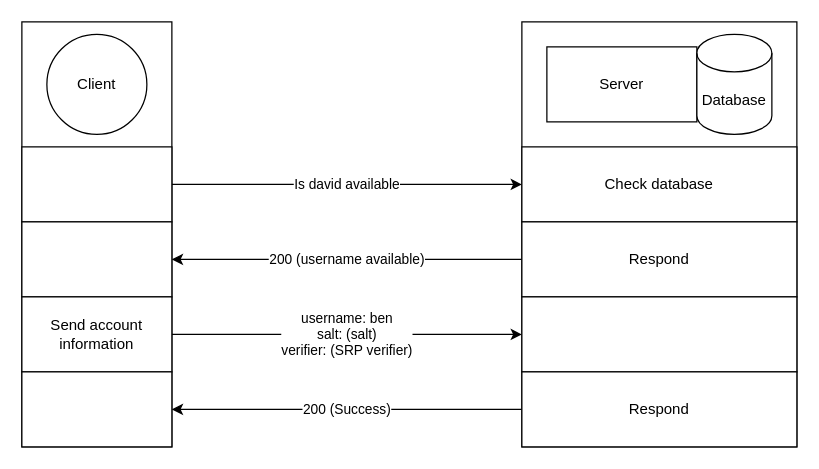
Some shapes in this 819 by 469 pixel diagram are drawn without their labels. Here are the shapes that lost their labels. From the top down, the centre of each, then its label:
point (96, 184): User sends username: david password: ben
point (96, 259): ben -> Argon2(salt) -> HKDF -> SRP -> verifier
point (659, 334): Create user in database
point (96, 409): Success
